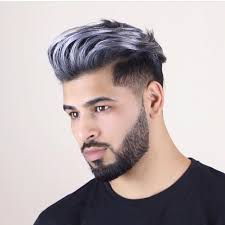Indian_Male: (56, 59, 162, 182)
